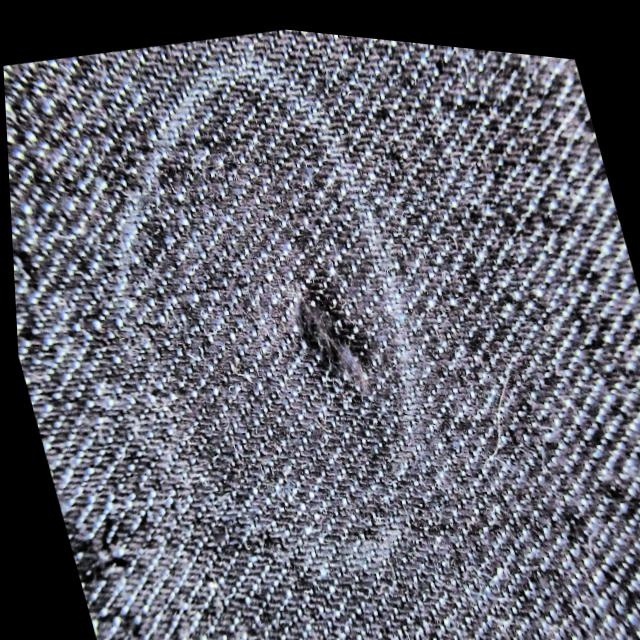Hole: (260, 222, 405, 448)
